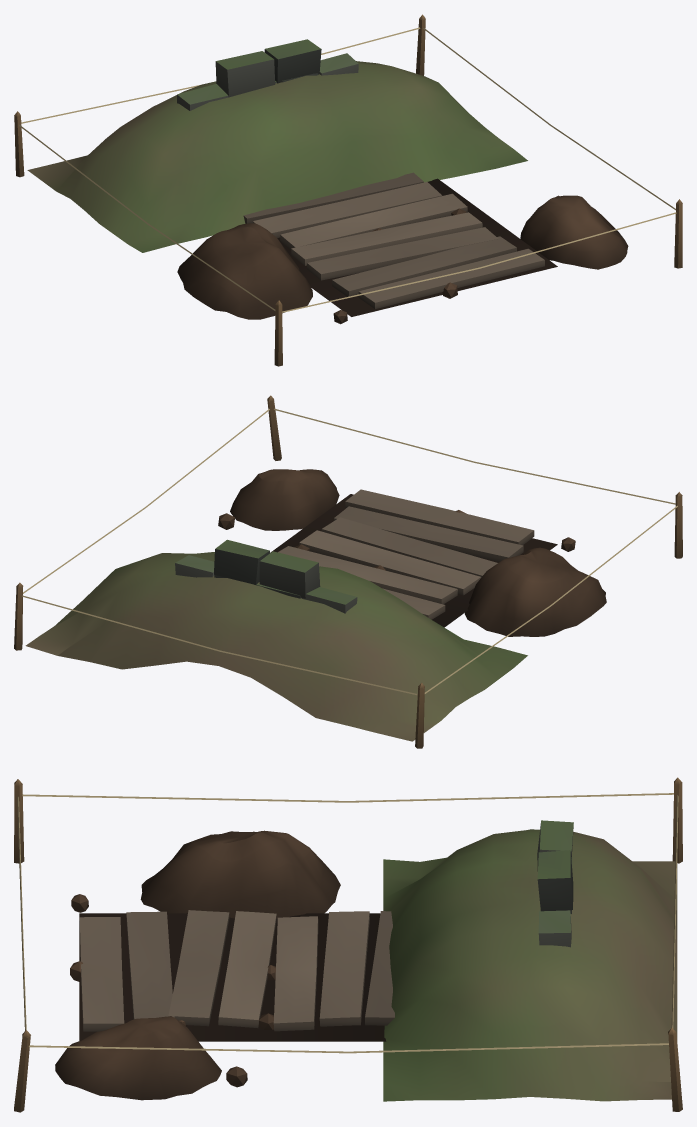
The model's file is ph_bld_crypt_site.glb.
The picture shows the model from 3 angles, top to bottom: view 1: azimuth 30°, elevation 25°; view 2: azimuth 150°, elevation 25°; view 3: azimuth 270°, elevation 25°; orthographic projection. The views are drawn at different scales.
Parts seen in each view (by area): view 1: ph_bld_crypt_site; view 2: ph_bld_crypt_site; view 3: ph_bld_crypt_site.
Part boxes in pixels (x1,y1,x2,y2): ph_bld_crypt_site: (14,14,682,366); ph_bld_crypt_site: (14,395,682,748); ph_bld_crypt_site: (14,777,682,1112).
Bounding box in the file's own units: 2.99 × 0.7499 × 3.3.
